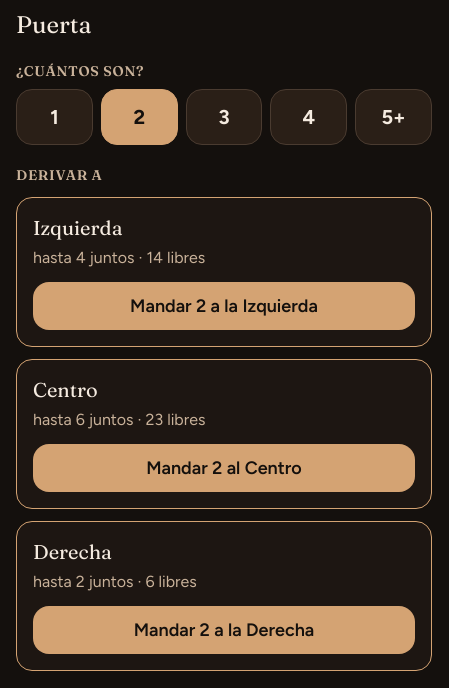
Test: PuertaView › si el grupo no entra, el botón de la sección queda deshabilitado y dice No entran 3
The image size is (449, 688).
Click the button "3": click(224, 117) top-left (186, 89), bottom-right (262, 145)
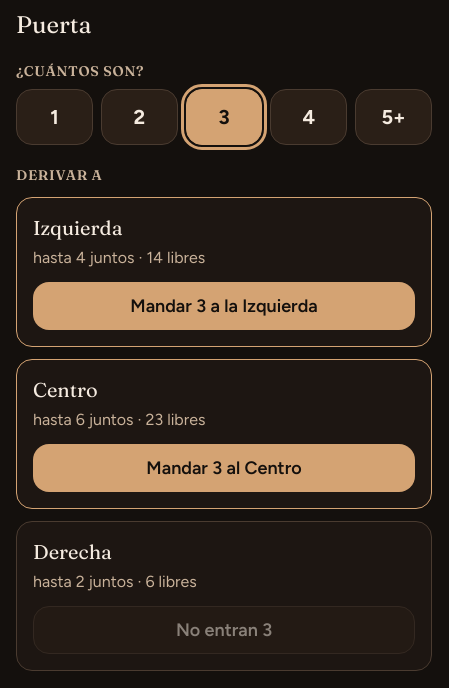
expect the button "Mandar 3 al Centro" is enabled: met, box top-left (33, 444), bottom-right (415, 492)
expect the button "No entran 3" is disabled: met, box top-left (33, 606), bottom-right (415, 654)
expect the button "No entran 3" is shown: met, box top-left (33, 606), bottom-right (415, 654)
